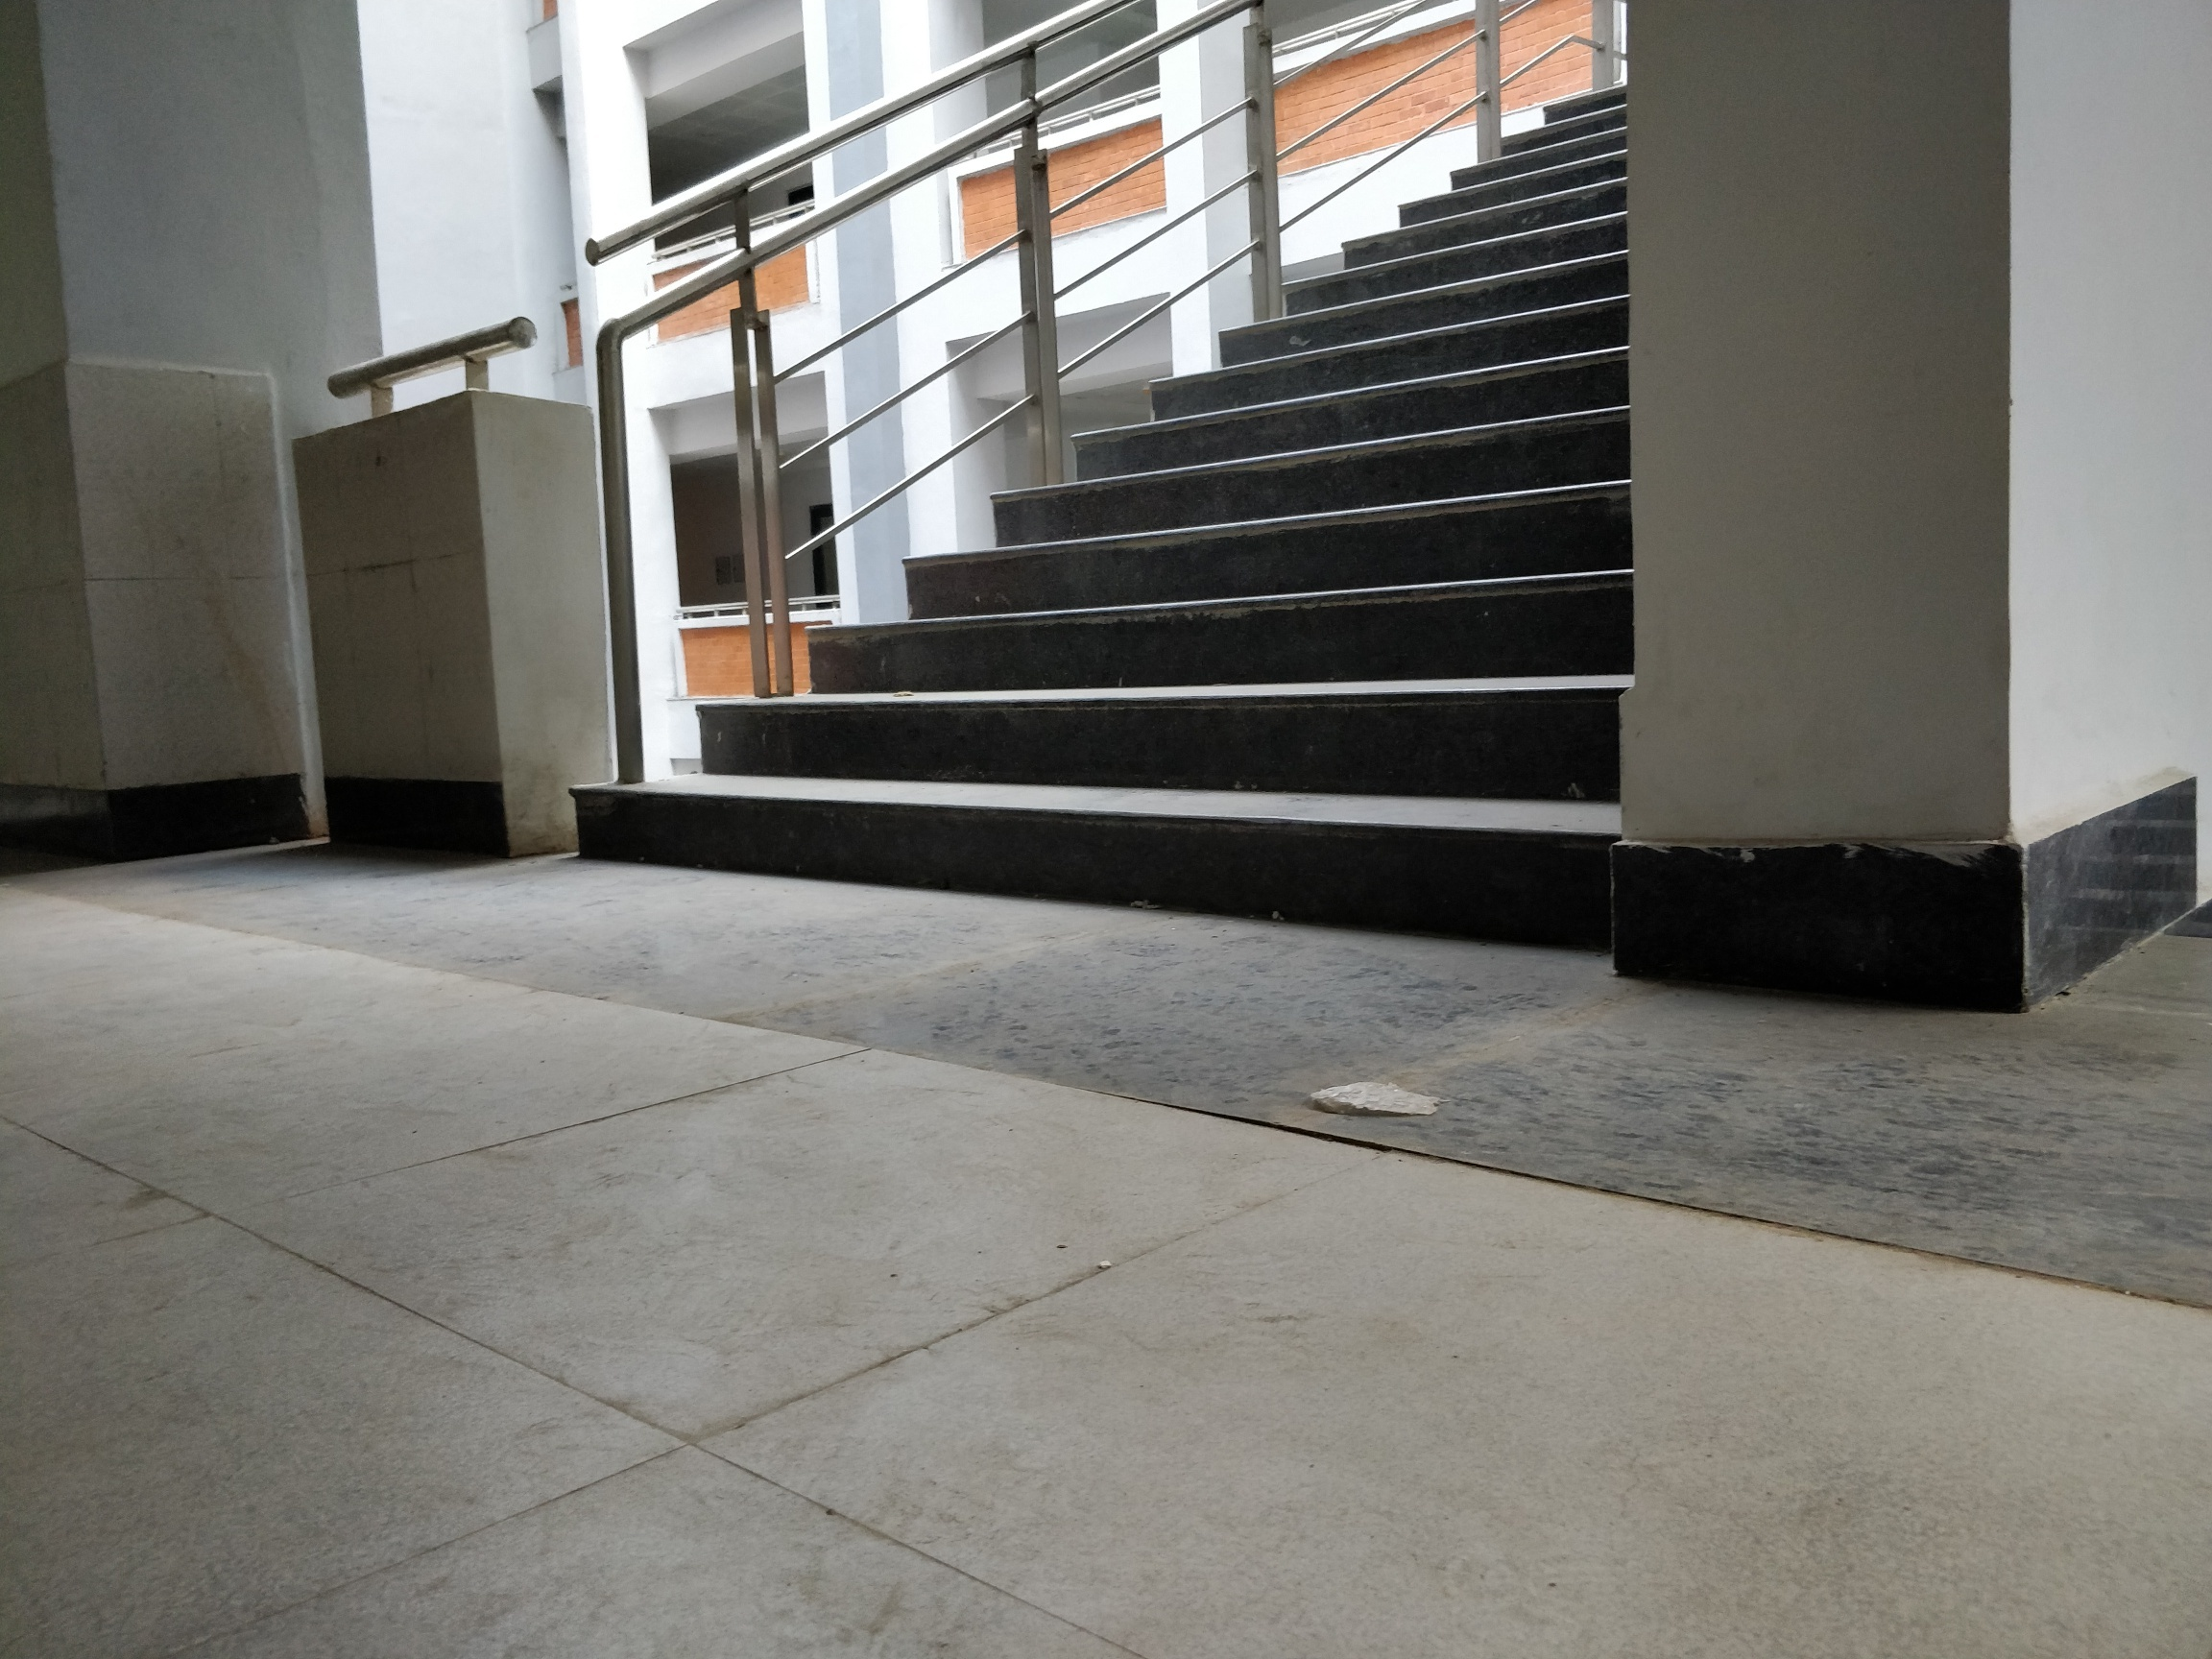stairs_up: (542, 73, 1622, 953)
